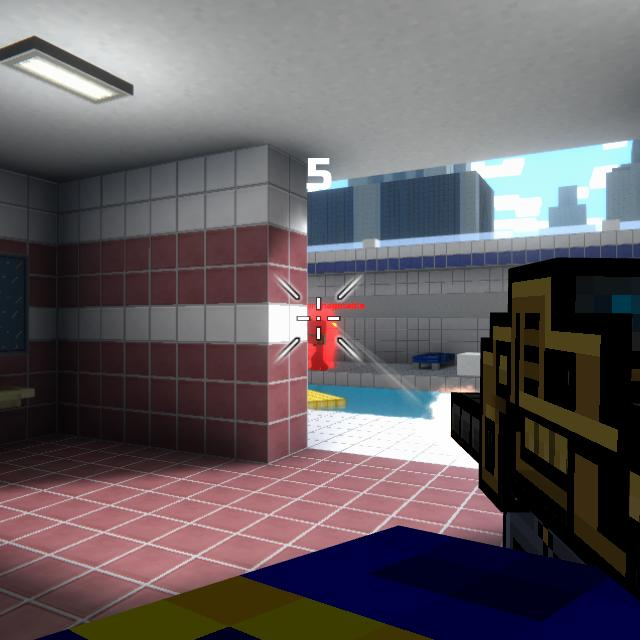Enemy: (307, 317, 327, 372)
